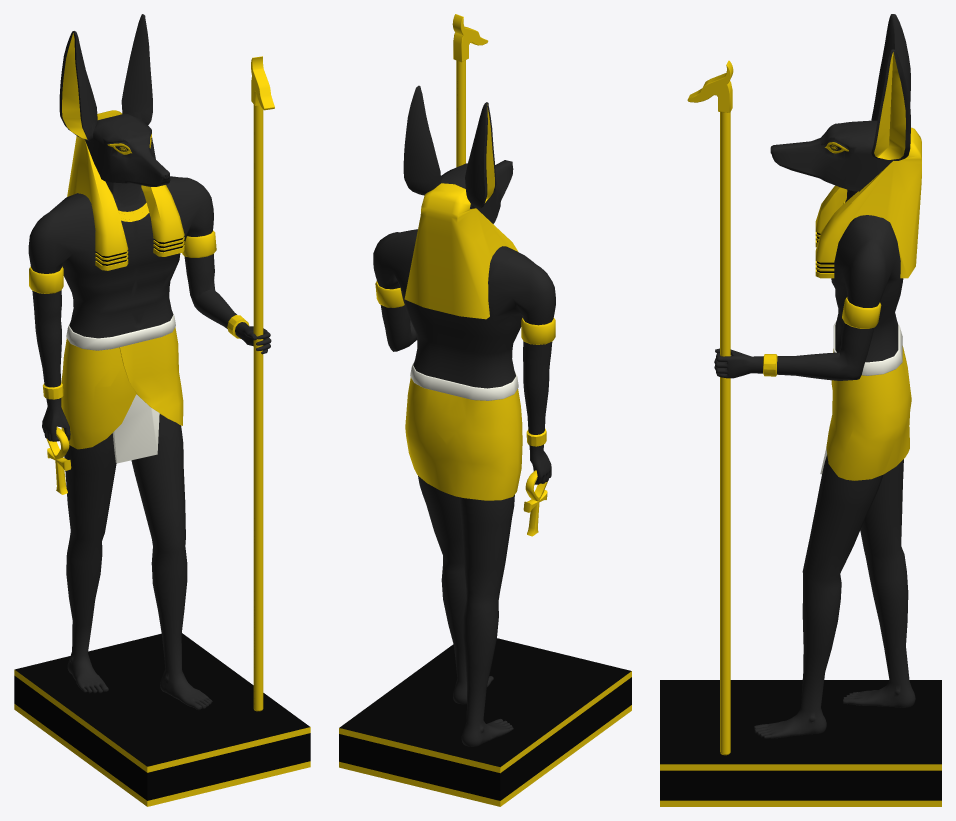
File: Anubis_ns.dae
3 renders of one model, left to right at view 1: azimuth 30°, elevation 25°; view 2: azimuth 150°, elevation 25°; view 3: azimuth 270°, elevation 25°, orthographic. The views are drawn at different scales.
Visible parts, largest first — view 1: SketchUp (×22); view 2: SketchUp (×19); view 3: SketchUp (×17).
Part boxes in pixels (bbox=[...]): SketchUp (×22): bbox=[14, 14, 310, 806]; SketchUp (×19): bbox=[339, 14, 631, 806]; SketchUp (×17): bbox=[660, 14, 941, 806].
Bounding box in the file's own units: 37.28 × 47.24 × 136.
